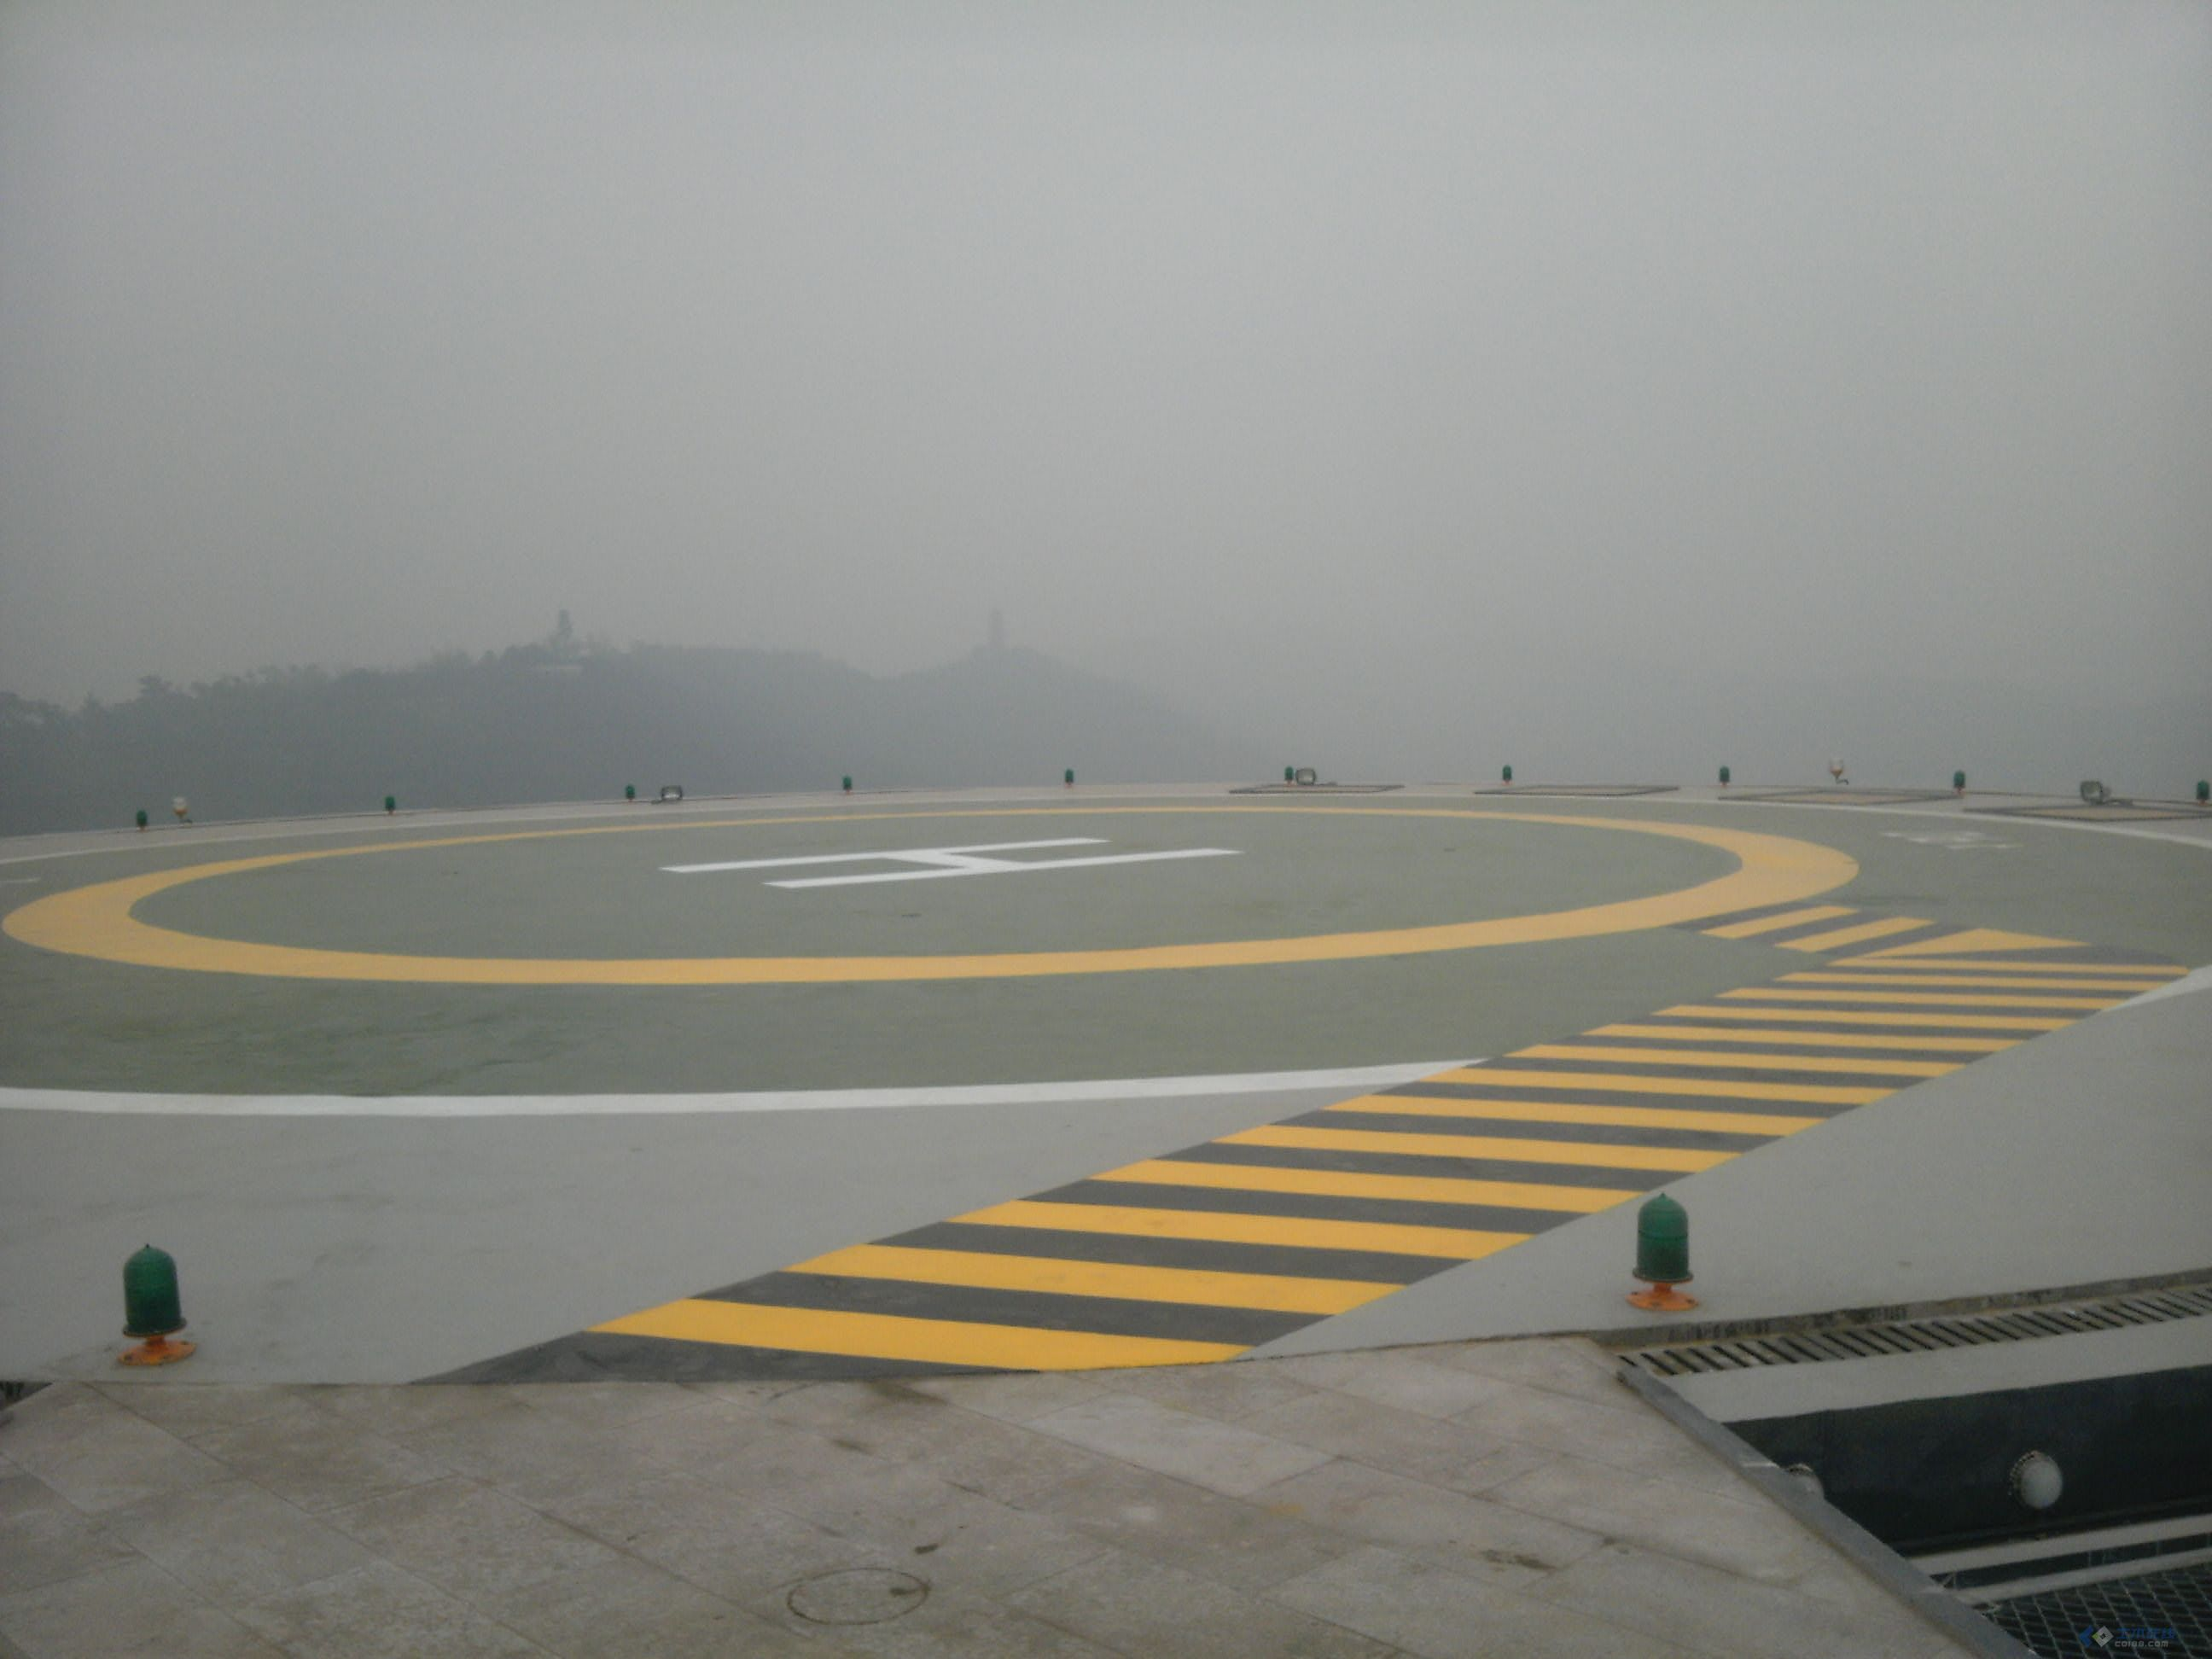Apron: (10, 803, 1860, 985)
